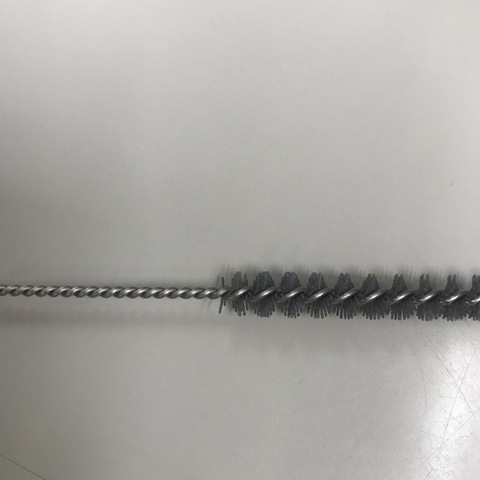Twist Brush-A: (1, 269, 473, 329)
